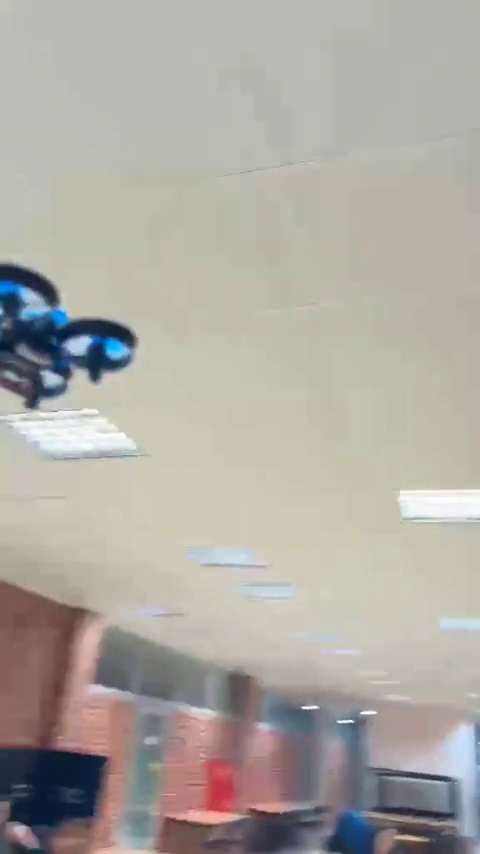drone: (0, 259, 137, 428)
